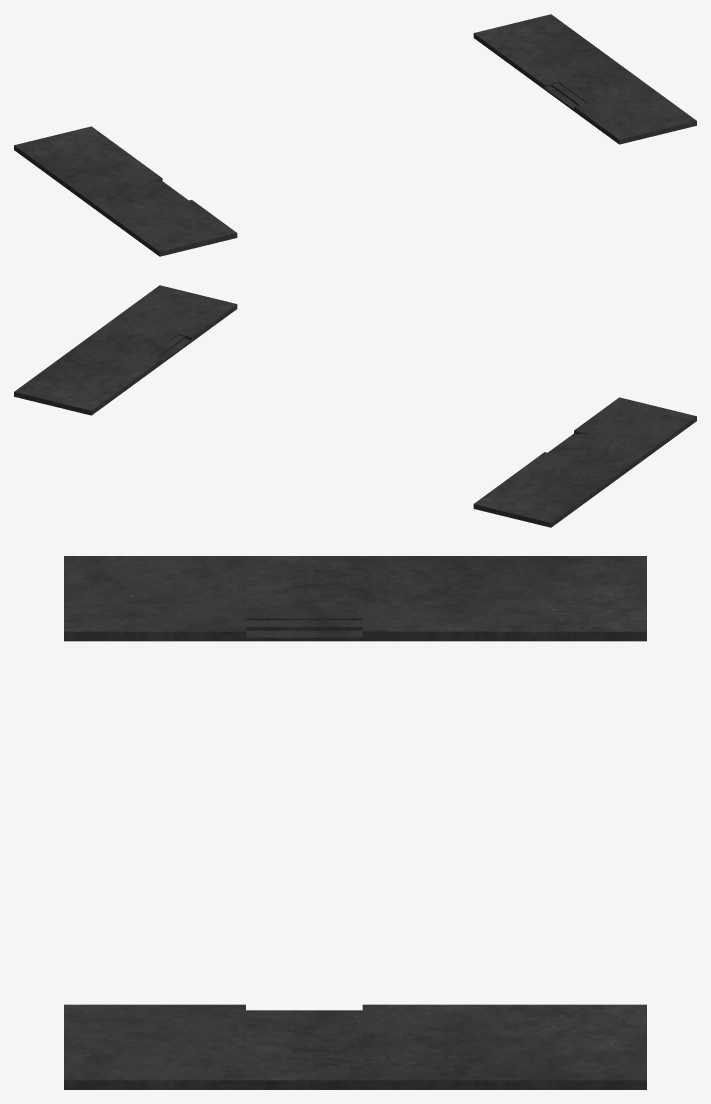
File: Platforms.glb
The picture shows the model from 3 angles, top to bottom: view 1: azimuth 30°, elevation 25°; view 2: azimuth 150°, elevation 25°; view 3: azimuth 270°, elevation 25°; orthographic projection. The views are drawn at different scales.
Visible parts, largest first — view 1: Platform.001; view 2: Platform.001; view 3: Platform.001.
Part boxes in pixels (x1=…): Platform.001: x1=14, y1=14, x2=696, y2=256; Platform.001: x1=14, y1=285, x2=696, y2=527; Platform.001: x1=64, y1=556, x2=646, y2=1089.
Size of what is drawn, in the model's own units: 23.4 by 0.2 by 11.
1 material, 1 textured.
